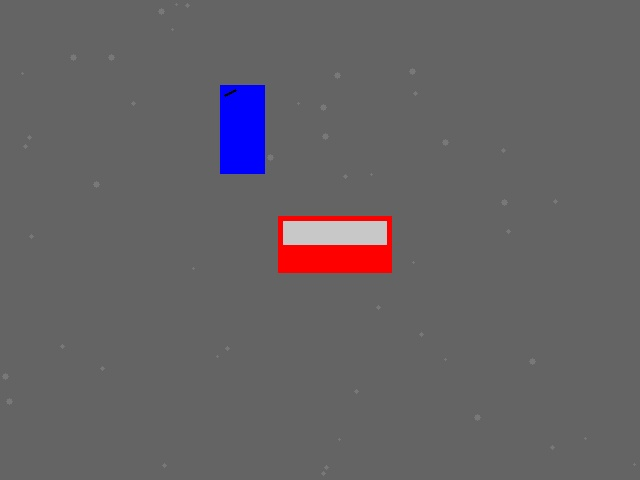car: (278, 216, 391, 272)
motorcycle: (220, 85, 264, 173)
